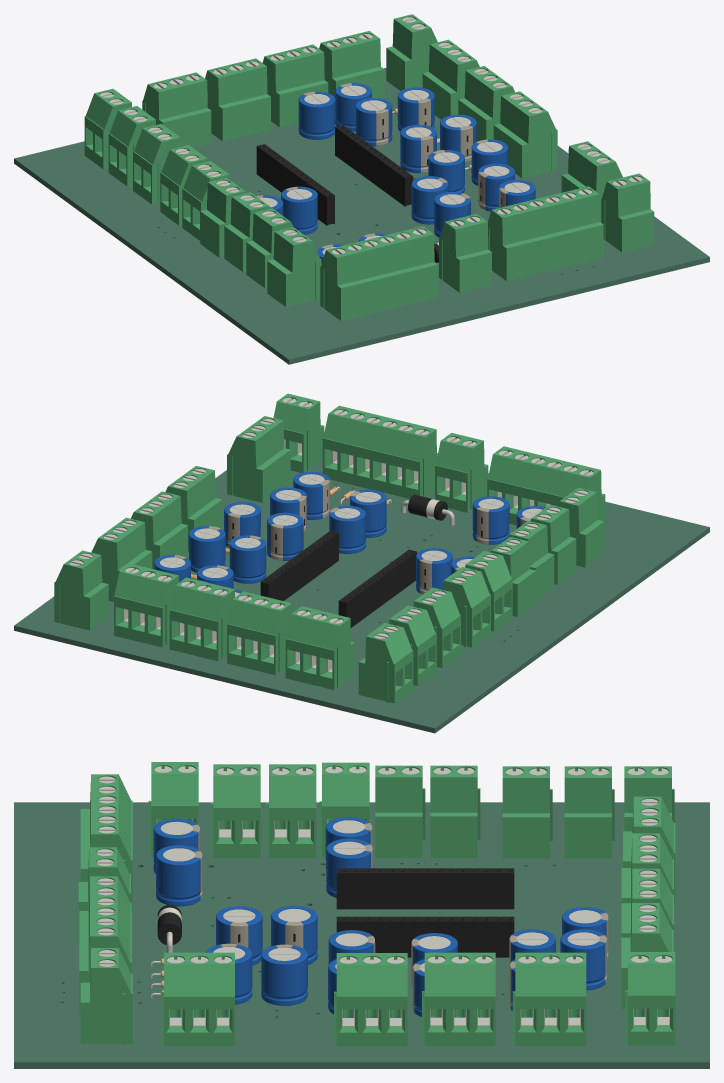
Rendered from lycodry-pcb.glb.
3 renders of one model, top to bottom at view 1: azimuth 30°, elevation 25°; view 2: azimuth 150°, elevation 25°; view 3: azimuth 270°, elevation 25°, orthographic. The views are drawn at different scales.
Parts seen in each view (by area): view 1: =>[0:1:1:9], J16, J8, J10, J20, J12, J17, J1, J5, J6, J9, J11 (+26 smaller); view 2: =>[0:1:1:9], J8, J16, J12, J10, J5, J4, J9, J26, J11, J1, J17 (+26 smaller); view 3: =>[0:1:1:9], J19, J2, J3, J4, J20, J21, J11, J7, J15, J18, J25 (+28 smaller).
Boxes of the visible parts, left/top/right/bottom form: =>[0:1:1:9]: left=14, top=68, right=709, bottom=364; J16: left=320, top=226, right=438, bottom=320; J8: left=488, top=186, right=603, bottom=280; J10: left=205, top=58, right=270, bottom=141; J20: left=493, top=91, right=557, bottom=177; J12: left=142, top=72, right=211, bottom=147; J17: left=601, top=173, right=654, bottom=252; J1: left=439, top=214, right=491, bottom=292; J5: left=262, top=44, right=328, bottom=127; J6: left=267, top=227, right=321, bottom=306; J9: left=319, top=31, right=384, bottom=99; J11: left=386, top=14, right=437, bottom=90; =>[0:1:1:9]: left=14, top=460, right=709, bottom=733; J8: left=322, top=405, right=437, bottom=498; J16: left=487, top=446, right=605, bottom=527; J12: left=285, top=606, right=354, bottom=689; J10: left=227, top=591, right=292, bottom=675; J5: left=169, top=577, right=234, bottom=661; J4: left=227, top=416, right=290, bottom=502; J9: left=114, top=563, right=178, bottom=647; J26: left=358, top=623, right=413, bottom=703; J11: left=54, top=550, right=108, bottom=630; J1: left=435, top=432, right=488, bottom=512; J17: left=273, top=393, right=324, bottom=472; =>[0:1:1:9]: left=14, top=802, right=709, bottom=1068; J19: left=336, top=868, right=514, bottom=909; J2: left=512, top=952, right=586, bottom=1046; J3: left=422, top=952, right=495, bottom=1046; J4: left=161, top=952, right=234, bottom=1046; J20: left=334, top=953, right=407, bottom=1046; J21: left=336, top=916, right=514, bottom=957; J11: left=625, top=952, right=675, bottom=1045; J7: left=210, top=764, right=260, bottom=857; J15: left=266, top=764, right=316, bottom=857; J18: left=375, top=765, right=425, bottom=857; J25: left=564, top=766, right=614, bottom=858.
Bounding box in the file's own units: 0.1319 × 0.023 × 0.1492.
